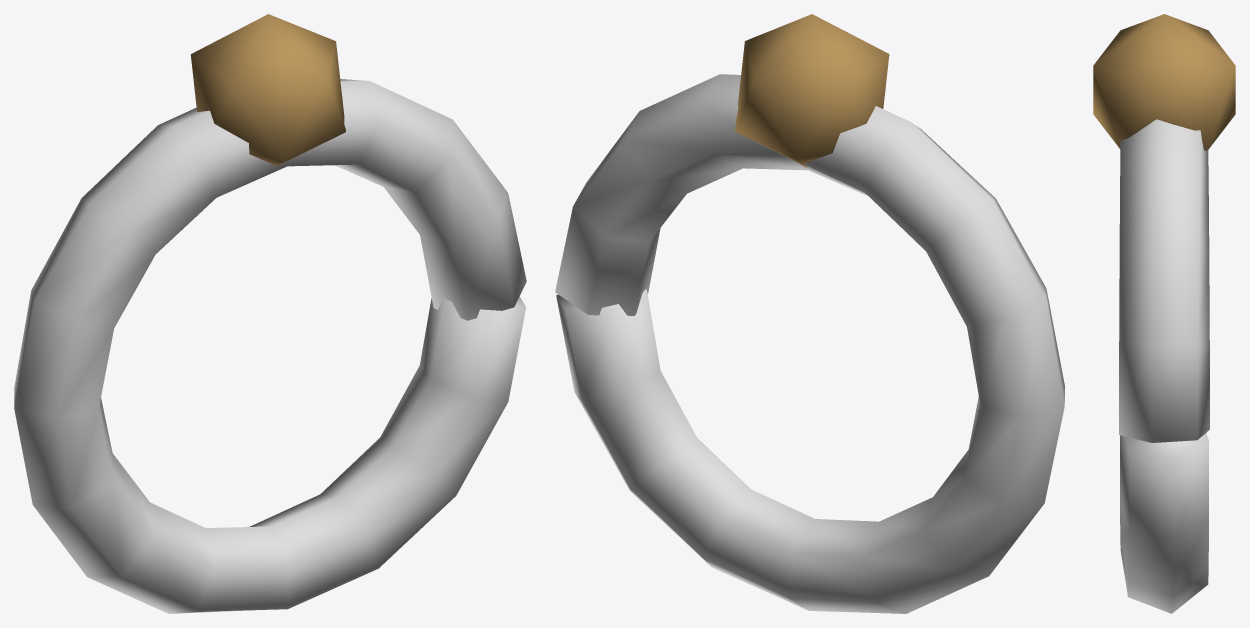
File: feral_claws.glb
3 views of the same model, side by side, from view 1: azimuth 30°, elevation 25°; view 2: azimuth 150°, elevation 25°; view 3: azimuth 270°, elevation 25° (orthographic). The views are drawn at different scales.
Visible parts, largest first — view 1: feral_claws_v0; view 2: feral_claws_v0; view 3: feral_claws_v0.
Boxes of the visible parts, <box> form: feral_claws_v0: <box>14,14,526,613</box>; feral_claws_v0: <box>555,14,1064,613</box>; feral_claws_v0: <box>1093,14,1235,613</box>.
Size of the model in its own units: 0.1674 by 0.1889 by 0.0425.
